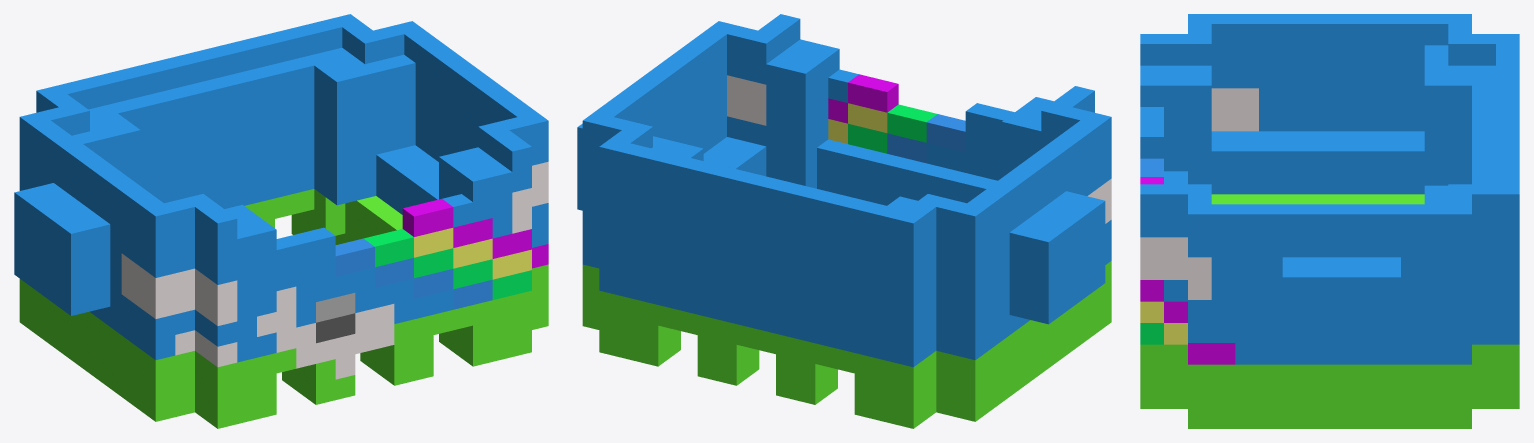
3 renders of one model, left to right at view 1: azimuth 30°, elevation 25°; view 2: azimuth 150°, elevation 25°; view 3: azimuth 270°, elevation 25°, orthographic. The views are drawn at different scales.
Parts seen in each view (by area): view 1: 54; view 2: 54; view 3: 54.
Part boxes in pixels (x1,y1,x2,y2): 54: (14, 14, 548, 428); 54: (577, 14, 1111, 428); 54: (1140, 14, 1519, 428).
Bounding box in the file's own units: 0.9449 × 0.3937 × 0.6299.
1 material, 1 textured.
